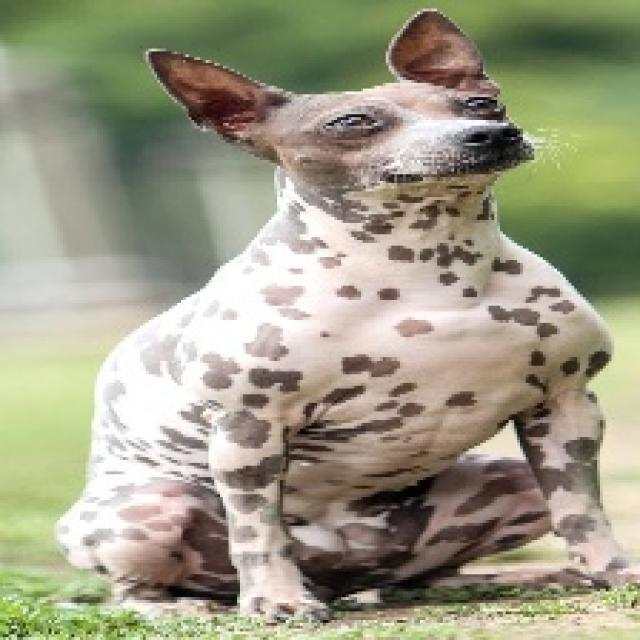cho khoe manh: (73, 21, 634, 597)
